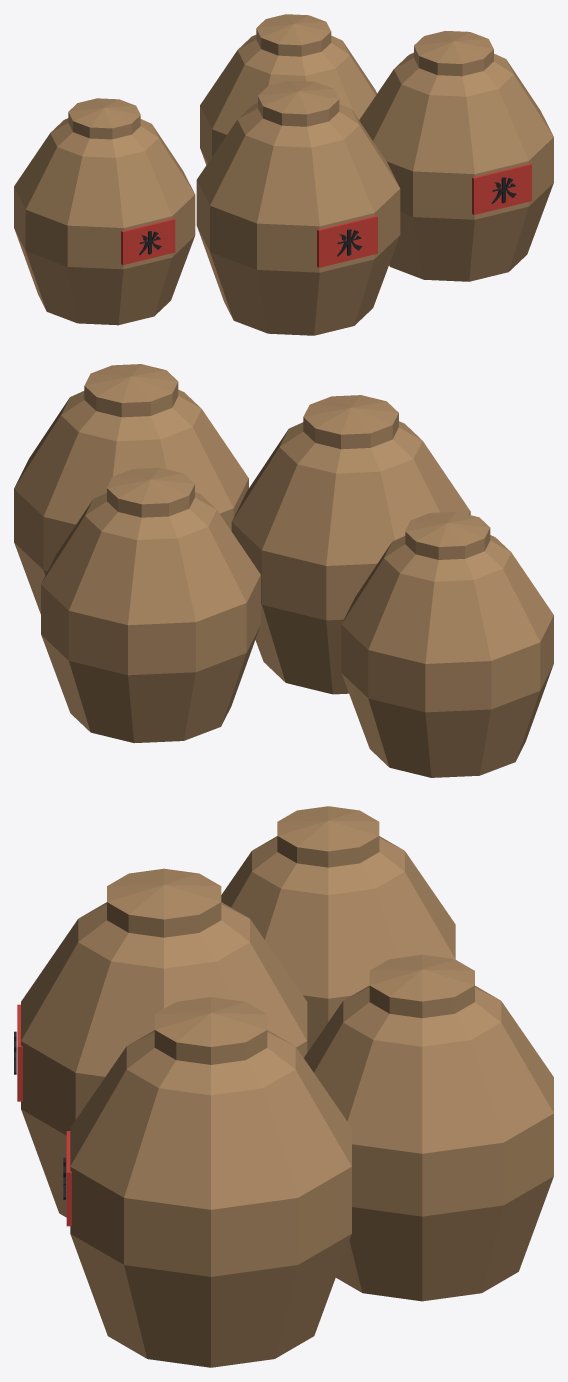
File: rice_jars.glb
3 views of the same model, one above another, from view 1: azimuth 30°, elevation 25°; view 2: azimuth 150°, elevation 25°; view 3: azimuth 270°, elevation 25° (orthographic). The views are drawn at different scales.
Visible parts, largest first — view 1: rice_jars; view 2: rice_jars; view 3: rice_jars.
Boxes of the visible parts, <box> form: rice_jars: <box>14,14,553,335</box>; rice_jars: <box>14,364,553,777</box>; rice_jars: <box>14,806,553,1367</box>.
Bounding box in the file's own units: 1.72 × 0.7482 × 1.15.
